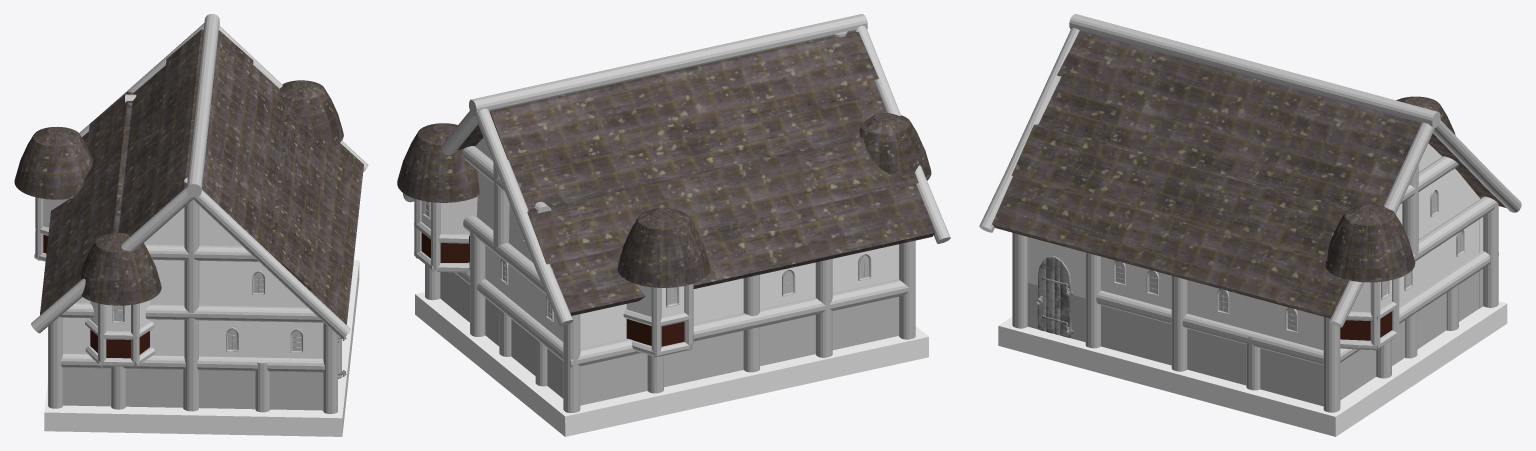
Rendered from Casa21(N).fbx.
3 views of the same model, side by side, from view 1: azimuth 30°, elevation 25°; view 2: azimuth 150°, elevation 25°; view 3: azimuth 270°, elevation 25° (orthographic). The views are drawn at different scales.
Visible parts, largest first — view 1: Casa21 - Nobre.001; view 2: Casa21 - Nobre.001; view 3: Casa21 - Nobre.001.
Boxes of the visible parts, x1,y1,x2,y2 form: Casa21 - Nobre.001: [14, 14, 368, 436]; Casa21 - Nobre.001: [397, 14, 950, 436]; Casa21 - Nobre.001: [979, 14, 1521, 436].
Size of the model in its own units: 1337 by 779 by 1407.
